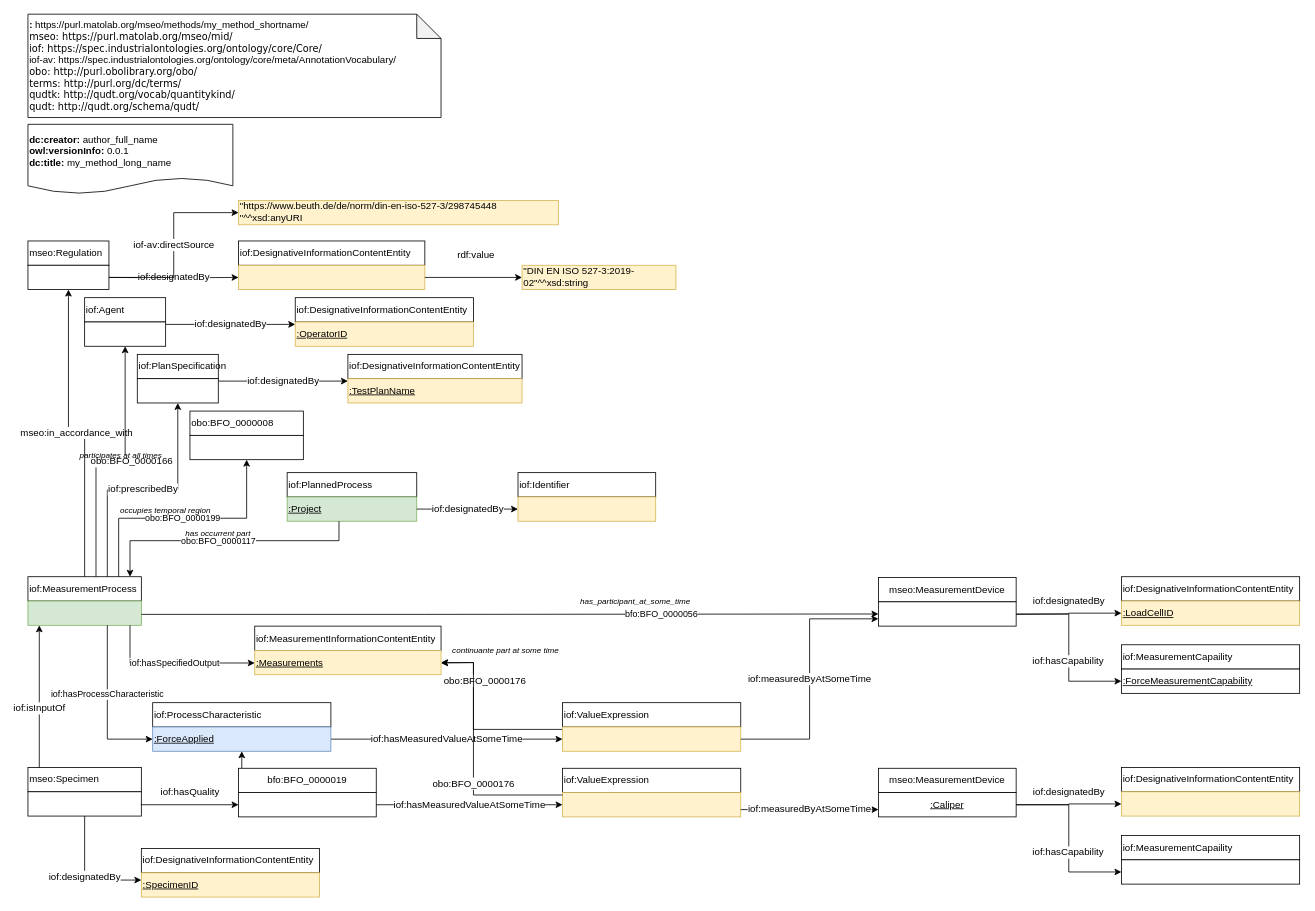
This 1315x911 diagram has some shape labels left out. The shapes that lost their labels are listed below. From the top down, each one's centre as x and y in pixels, then its label:
At point (68, 277): ":Standard".
At point (331, 277): ":StandardIdentifier".
At point (125, 333): ":Operator".
At point (177, 390): ":TestPlan".
At point (246, 447): ":ExperimentTimeInterval".
At point (586, 508): ":ProjectID".
At point (84, 612): ":MyExperiment".
At point (947, 613): ":LoadCell".
At point (651, 738): ":ForceMeasurement".
At point (84, 803): ":MySpecimen".
At point (307, 804): ":MySpecimenLength".
At point (651, 804): ":LengthMeasurement".
At point (1210, 803): ":CaliperID".
At point (1210, 871): ":LenghtMeasurementCapability".
